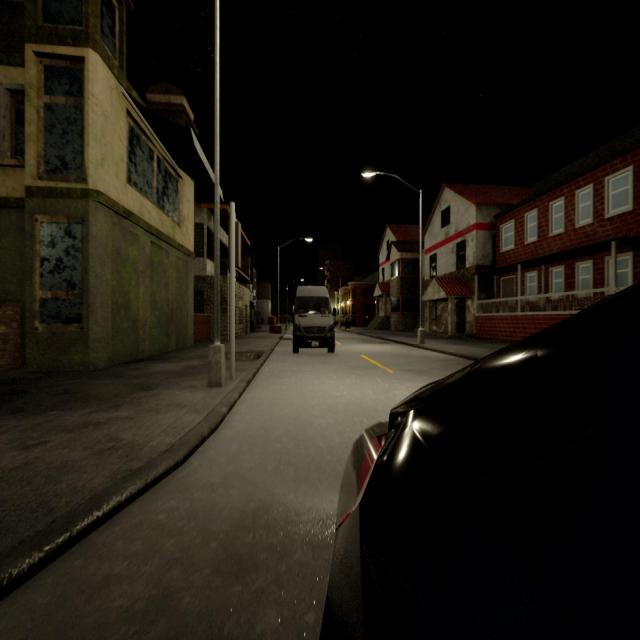Vehicle: (320, 283, 640, 640), (293, 286, 335, 353)
